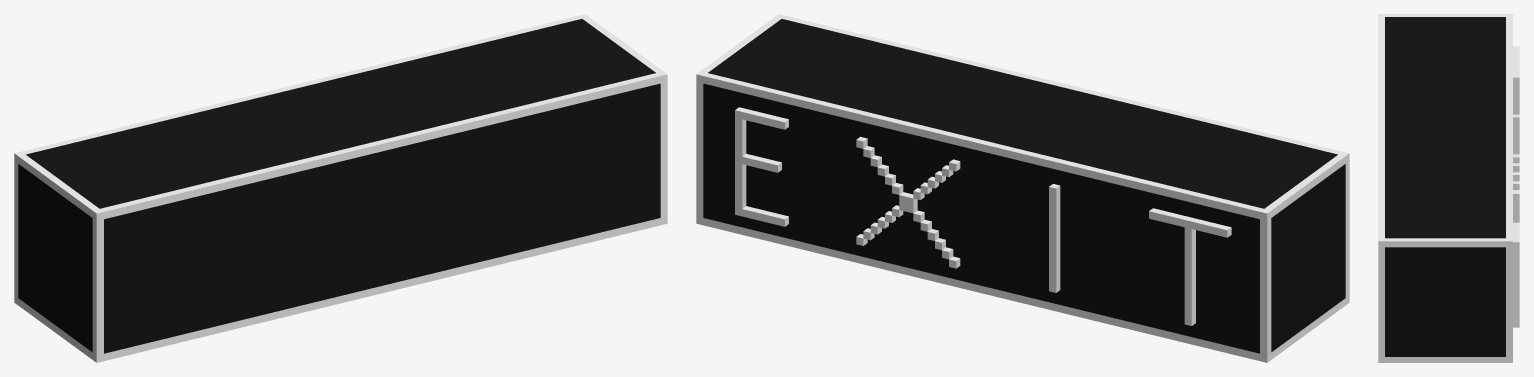
File: exitButton.fbx
3 renders of one model, left to right at view 1: azimuth 30°, elevation 25°; view 2: azimuth 150°, elevation 25°; view 3: azimuth 270°, elevation 25°, orthographic. The views are drawn at different scales.
Parts seen in each view (by area): view 1: exitButton; view 2: exitButton; view 3: exitButton.
Boxes of the visible parts, box(x1,y1,x2,y2) form: exitButton: box(14, 14, 667, 362); exitButton: box(696, 14, 1349, 362); exitButton: box(1378, 14, 1519, 362).
Bounding box in the file's own units: 400 × 100 × 105.
